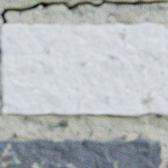brick: (0, 23, 167, 116), (0, 138, 160, 167)
crack: (0, 0, 167, 25)
